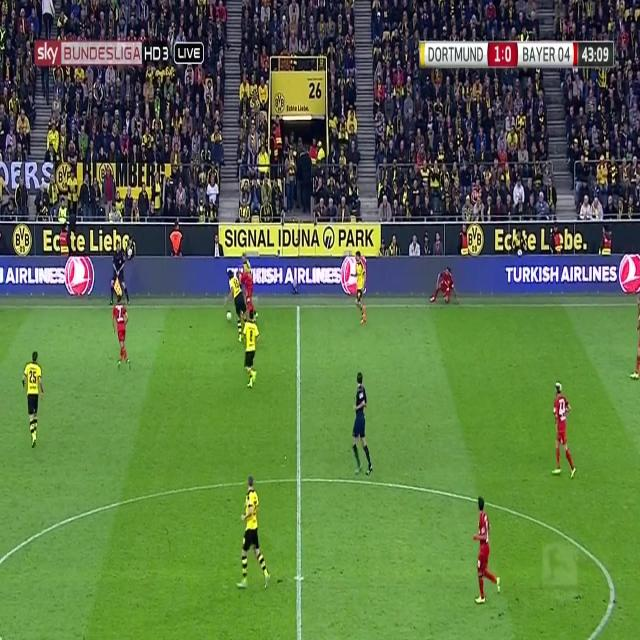Ball: (224, 308, 234, 324)
Player: (233, 472, 273, 592), (471, 494, 504, 610), (549, 380, 579, 480), (22, 350, 46, 450), (110, 292, 134, 375), (225, 269, 248, 344), (240, 307, 260, 391), (350, 250, 370, 326), (428, 266, 464, 308), (238, 268, 258, 322)
Referee: (350, 368, 374, 482), (109, 243, 131, 310)
